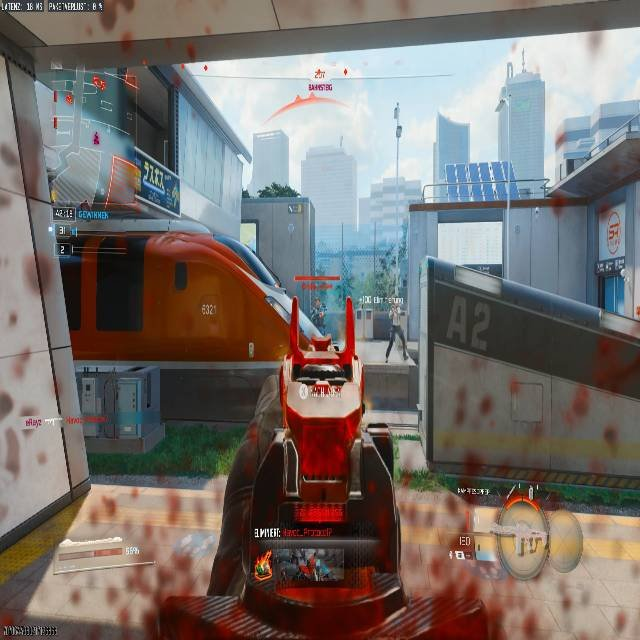head: (313, 297, 319, 304)
player: (385, 321, 409, 362), (311, 297, 326, 330)
